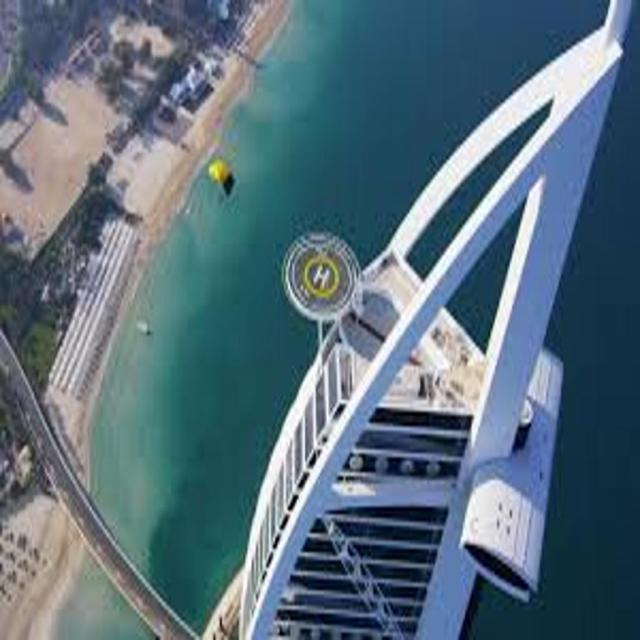helipad: (302, 253, 338, 297)
